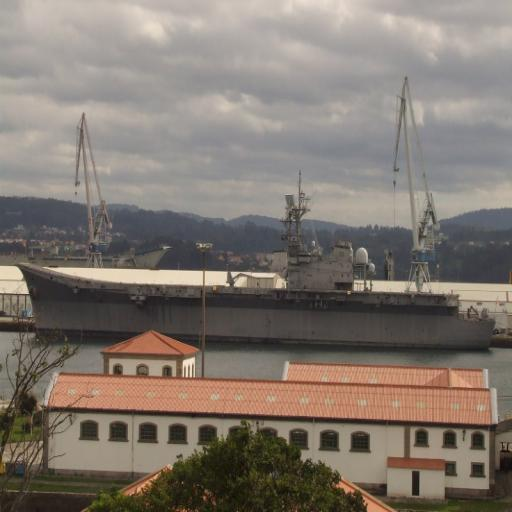Portanaves: (17, 167, 500, 345)
